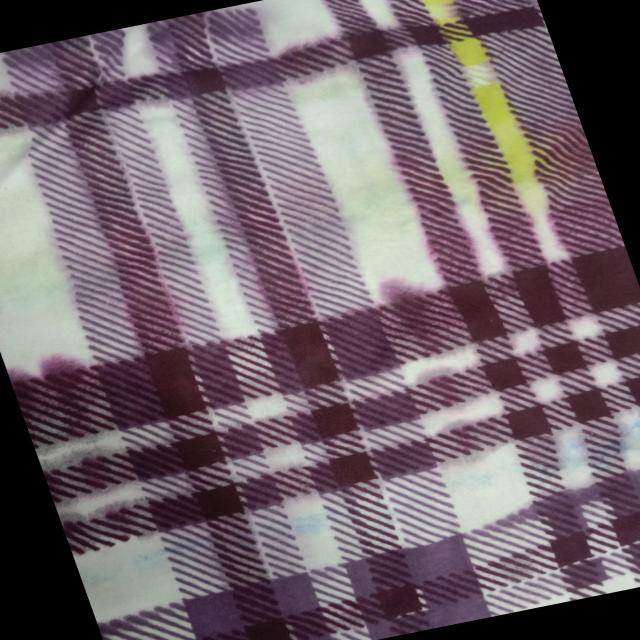baekra: (12, 235, 640, 608), (177, 0, 618, 297)
